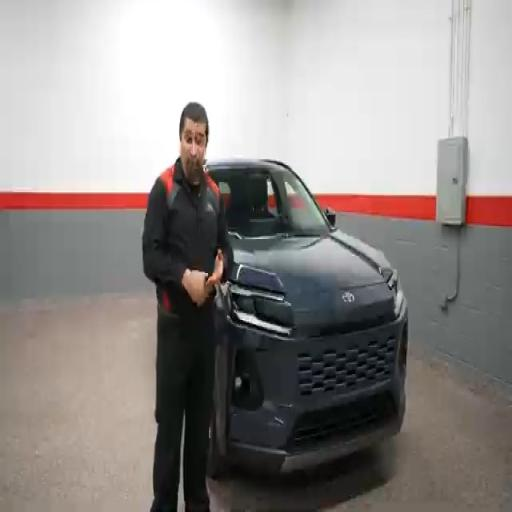bumper: (228, 301, 407, 472)
emblem: (342, 292, 355, 302)
grille: (289, 393, 397, 449), (298, 338, 396, 396)
headlight: (229, 284, 293, 335), (385, 269, 403, 315)
hood: (232, 231, 394, 335), (233, 231, 388, 295)
side_mirror: (325, 207, 335, 227)
tire: (207, 413, 228, 480)
windshield: (209, 168, 329, 237)
